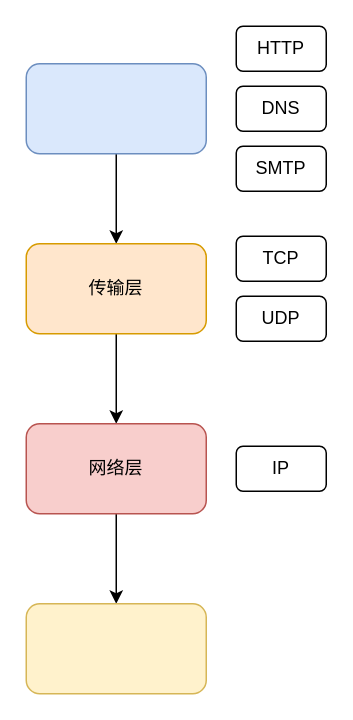
This 353x720 diagram has some shape labels left out. Here are the shapes that lost their labels. From the top down, the centre of each, then its label:
At pixel 115 108: "应用层".
At pixel 115 648: "网络接口层".
